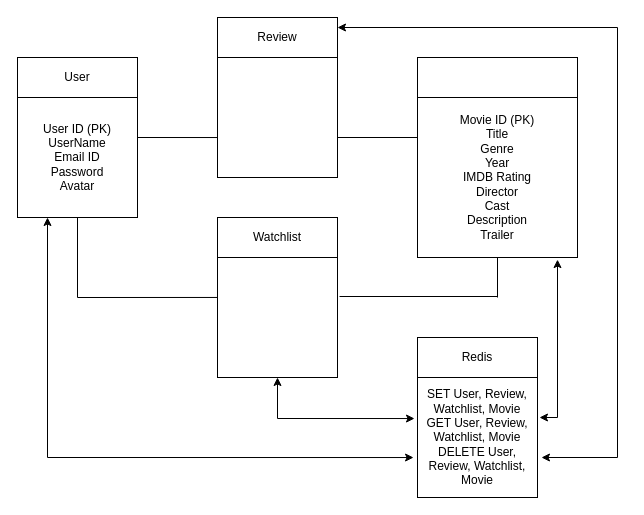
Some shapes in this 644 by 515 pixel diagram are drawn without their labels. Each missing label, with the centre of its shape:
"Movie" belongs at (x=497, y=77).
"Review ID (PK) Movie ID (FK) User ID (FK) Rating Review" belongs at (x=277, y=117).
"User ID, Movie ID (Composite PK) User ID (FK) Movie ID (FK)" belongs at (x=277, y=317).
